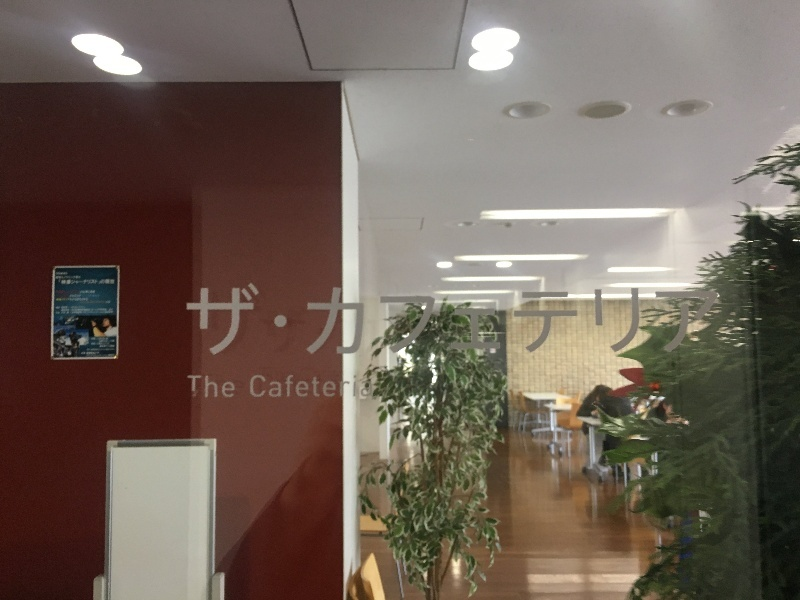text: (193, 283, 208, 356), (209, 283, 224, 356), (225, 283, 240, 356), (241, 283, 256, 356), (257, 283, 272, 356), (273, 283, 288, 356), (321, 287, 336, 356), (337, 287, 352, 356), (353, 287, 368, 356), (369, 287, 384, 356), (385, 287, 400, 356), (401, 287, 416, 356), (417, 287, 432, 356), (433, 287, 448, 356), (449, 287, 464, 356), (465, 287, 480, 356), (481, 287, 496, 356), (497, 287, 512, 356), (513, 287, 528, 356), (529, 287, 544, 356), (545, 287, 560, 356), (561, 287, 576, 356), (577, 287, 592, 356), (593, 287, 608, 356), (609, 287, 624, 356), (625, 287, 640, 356), (641, 287, 656, 356), (657, 287, 672, 356), (673, 287, 688, 356), (689, 287, 704, 356), (306, 287, 320, 356), (705, 287, 718, 356), (187, 283, 192, 356), (257, 374, 272, 397), (273, 374, 288, 397), (289, 374, 304, 397), (305, 374, 320, 397), (321, 374, 336, 397), (337, 374, 352, 397), (353, 374, 368, 397), (193, 376, 208, 398), (209, 376, 224, 398), (97, 337, 112, 357), (82, 337, 96, 357), (225, 376, 235, 398), (65, 290, 80, 304), (81, 290, 96, 304), (97, 290, 111, 304), (65, 306, 80, 315), (81, 306, 96, 315), (97, 306, 112, 315), (251, 374, 256, 397), (187, 376, 192, 398), (57, 290, 64, 304), (65, 273, 81, 279), (65, 279, 80, 285), (81, 279, 96, 285), (97, 279, 112, 285), (56, 306, 64, 315), (369, 374, 372, 397), (56, 273, 64, 279), (113, 337, 115, 357), (61, 279, 64, 285), (113, 279, 115, 285), (113, 306, 114, 315)
